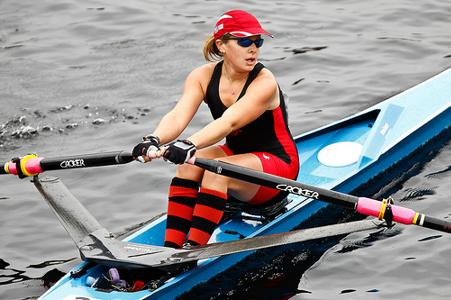person: (132, 9, 302, 269)
